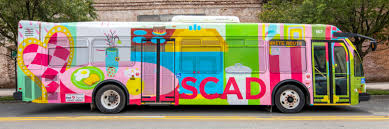bus: (14, 14, 376, 115)
